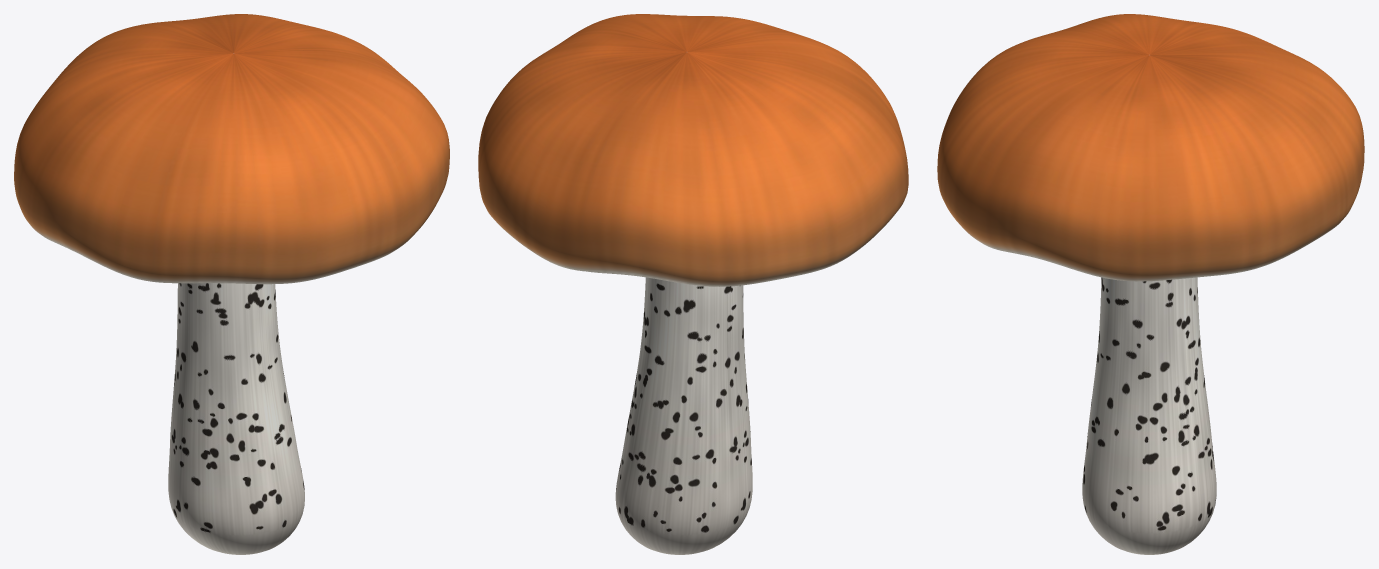
Rendered from leccinum-versipelle-agg-drawn.glb.
3 views of the same model, side by side, from view 1: azimuth 30°, elevation 25°; view 2: azimuth 150°, elevation 25°; view 3: azimuth 270°, elevation 25° (orthographic).
Bounding box in the file's own units: 0.7458 × 0.9325 × 0.7461.
Materials: 1 (1 with a texture image).
